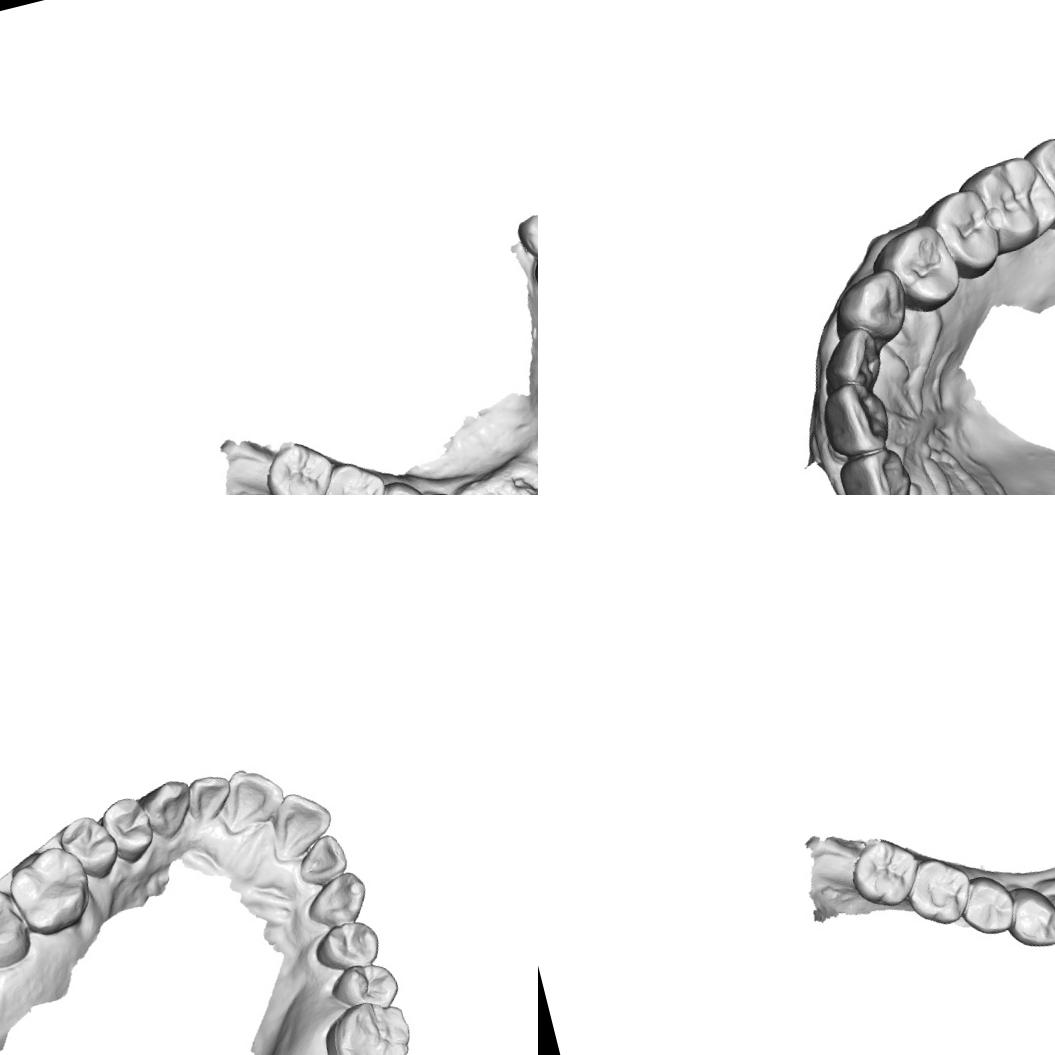canine: (824, 264, 916, 352), (296, 864, 374, 934), (136, 774, 200, 843)
incisor: (813, 374, 894, 462), (262, 782, 342, 863), (212, 759, 292, 834), (813, 323, 885, 396), (832, 442, 918, 495), (288, 826, 353, 888), (181, 767, 240, 829)
molar: (954, 147, 1055, 263), (1, 839, 100, 941), (842, 828, 928, 915), (313, 990, 421, 1055), (898, 850, 977, 932), (255, 430, 343, 495), (1019, 124, 1055, 235), (0, 879, 37, 981), (313, 453, 393, 495), (510, 200, 538, 263)
premolar: (866, 218, 966, 322), (914, 183, 1004, 289), (95, 789, 162, 871), (305, 914, 388, 980), (54, 810, 124, 888), (952, 868, 1021, 941), (324, 956, 402, 1019), (996, 877, 1055, 956), (369, 473, 436, 495)
